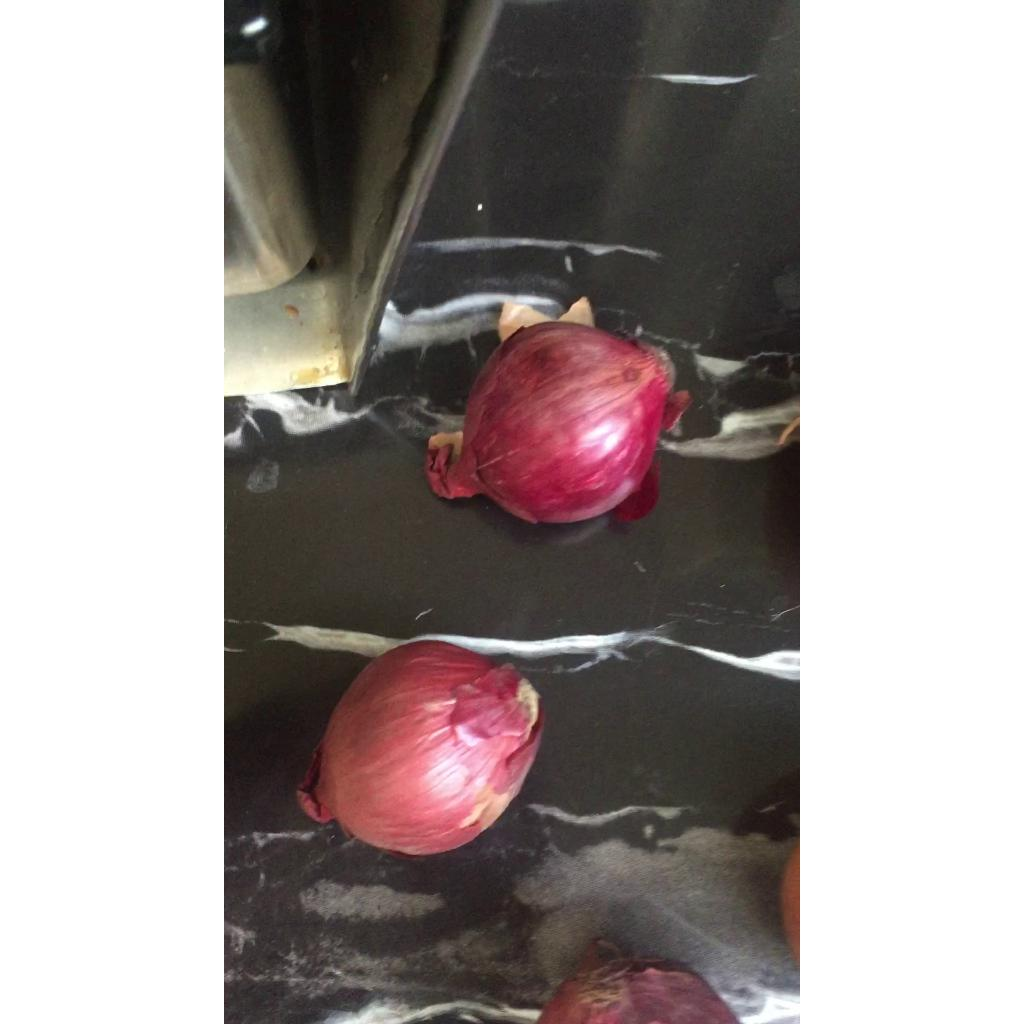Onion: (295, 641, 543, 857), (442, 321, 679, 523), (537, 940, 740, 1024)
